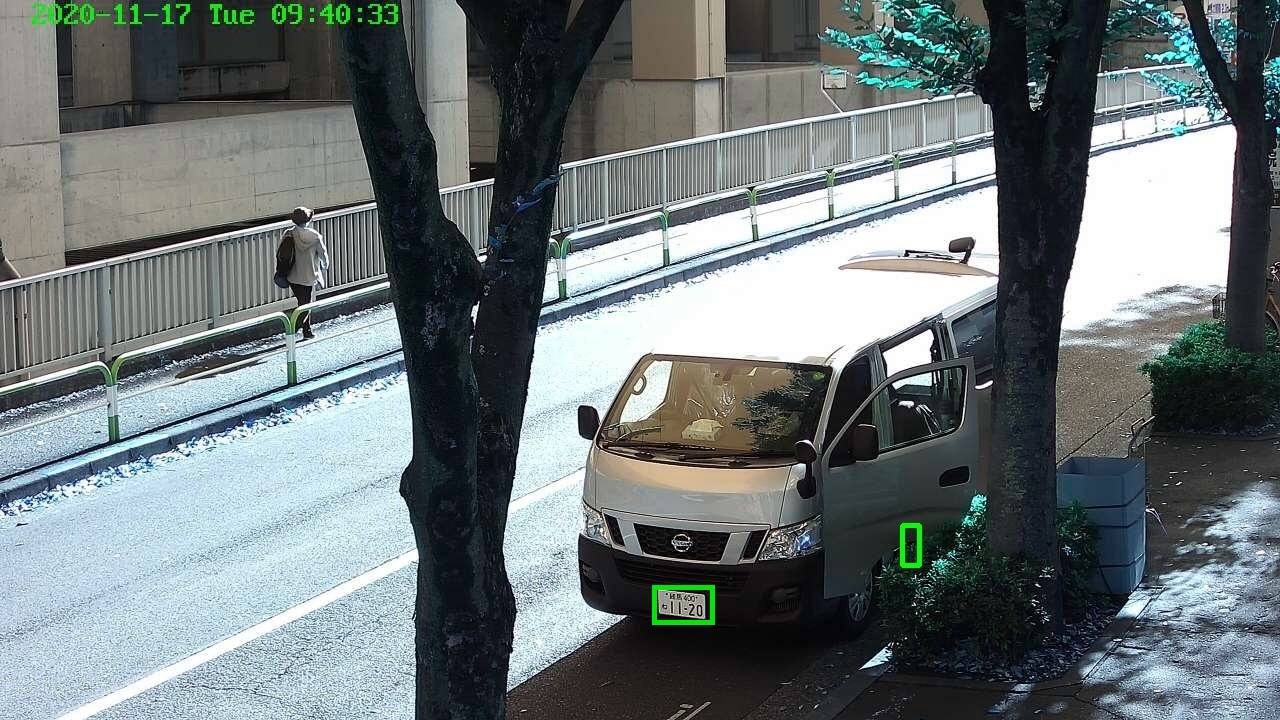number_plate: (656, 586, 706, 621)
